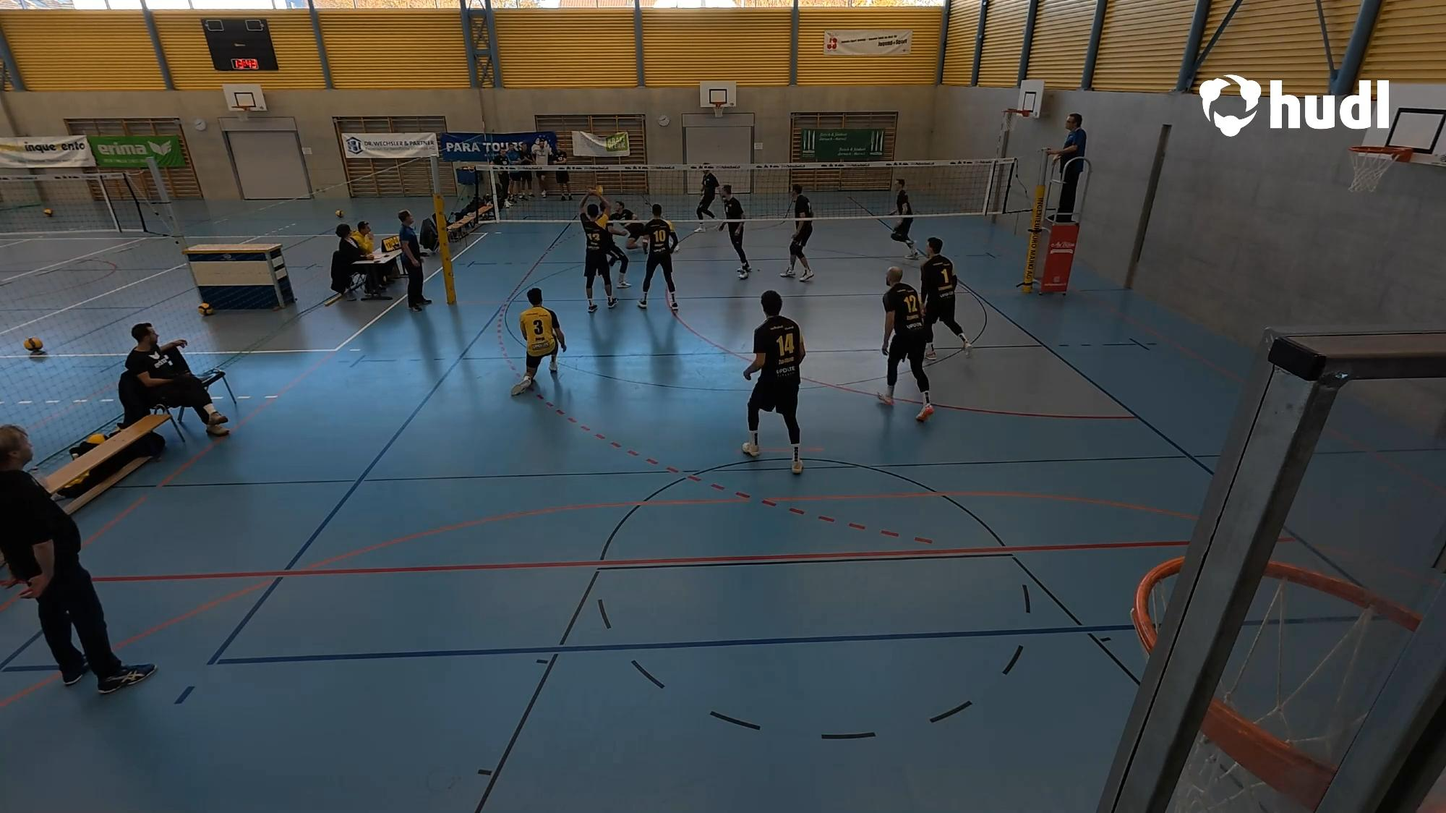Dig: (596, 188, 644, 246)
Player: (740, 289, 807, 474), (875, 263, 937, 428), (512, 287, 568, 396), (574, 183, 617, 314), (920, 237, 968, 354), (641, 210, 682, 310), (596, 203, 633, 309), (722, 185, 756, 278), (787, 188, 814, 281), (886, 183, 913, 256), (693, 166, 722, 231)
ball: (593, 182, 604, 199)
